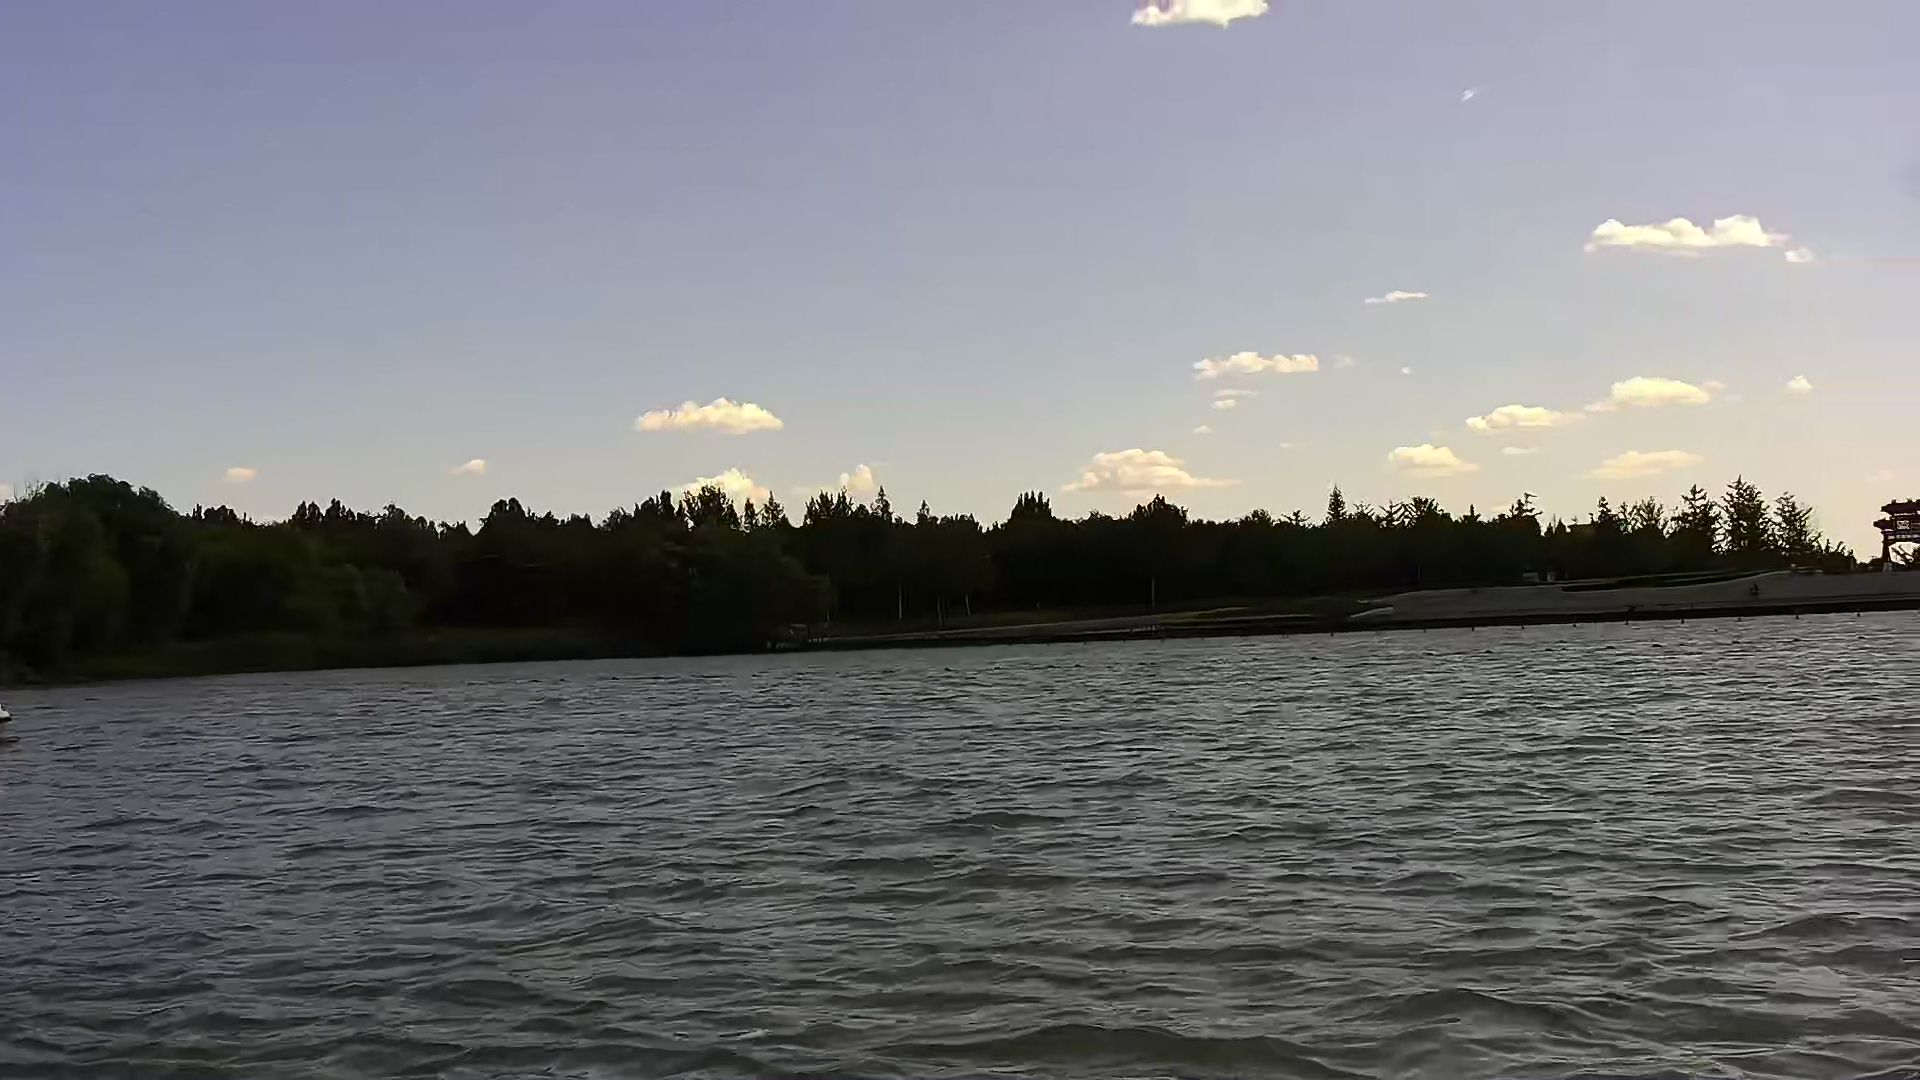harbor: (819, 560, 1920, 642)
